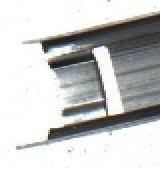press: (15, 16, 146, 149)
